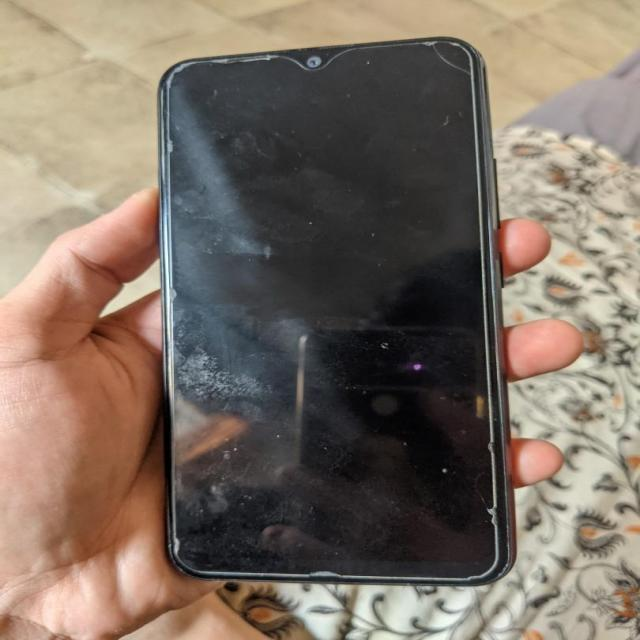mobile phone: (155, 35, 517, 587)
